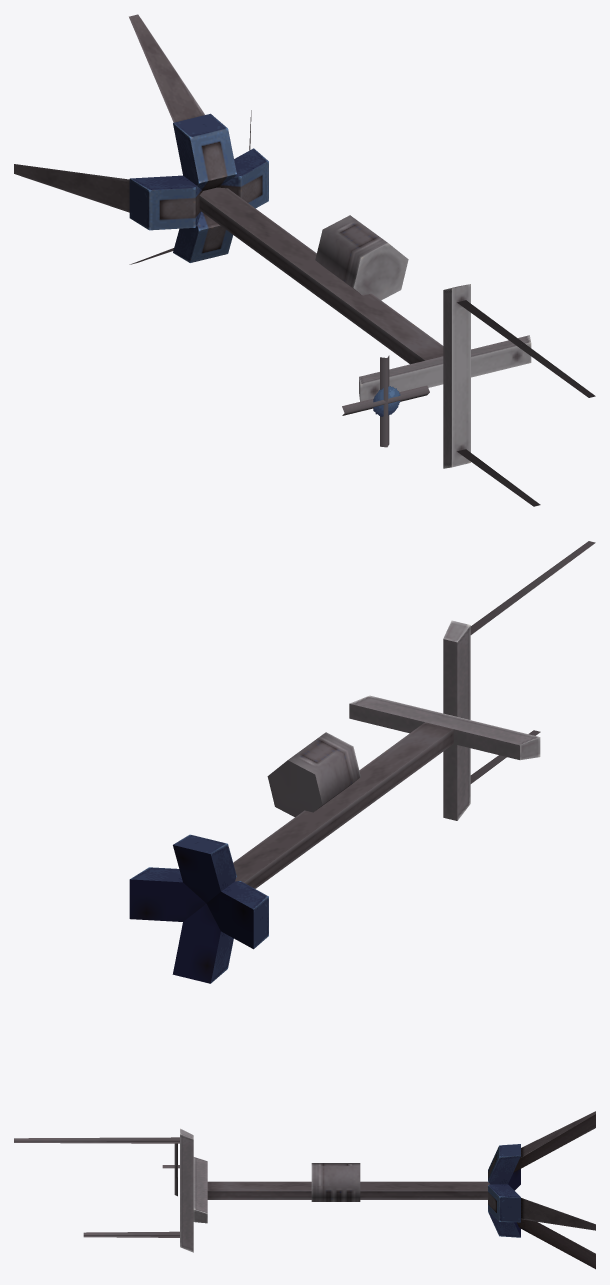
Rendered from sensor_weather.glb.
3 views of the same model, one above another, from view 1: azimuth 30°, elevation 25°; view 2: azimuth 150°, elevation 25°; view 3: azimuth 270°, elevation 25° (orthographic). The views are drawn at different scales.
Parts seen in each view (by area): view 1: sensor_weather.sensor_weather-MeshNodes["sensor_base"], sensor_weather.sensor_weather_part_spinner-MeshNodes["sensor; view 2: sensor_weather.sensor_weather-MeshNodes["sensor_base"]; view 3: sensor_weather.sensor_weather-MeshNodes["sensor_base"].
Part boxes in pixels (x1,y1,x2,y2): sensor_weather.sensor_weather-MeshNodes["sensor_base"]: (14, 14, 595, 506); sensor_weather.sensor_weather_part_spinner-MeshNodes["sensor: (342, 355, 429, 447); sensor_weather.sensor_weather-MeshNodes["sensor_base"]: (129, 541, 595, 983); sensor_weather.sensor_weather-MeshNodes["sensor_base"]: (14, 1111, 595, 1269).
Size of the model in its own units: 1.01 by 1 by 3.36.
Materials: 1 (1 with a texture image).
